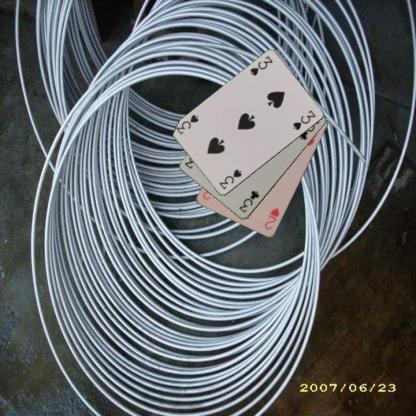2h: (262, 206, 280, 231)
3c: (236, 188, 261, 214)
3s: (247, 53, 274, 78), (216, 167, 242, 191)
